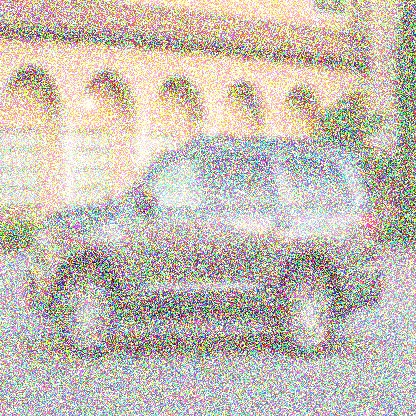Vehicle: (25, 130, 386, 366)
